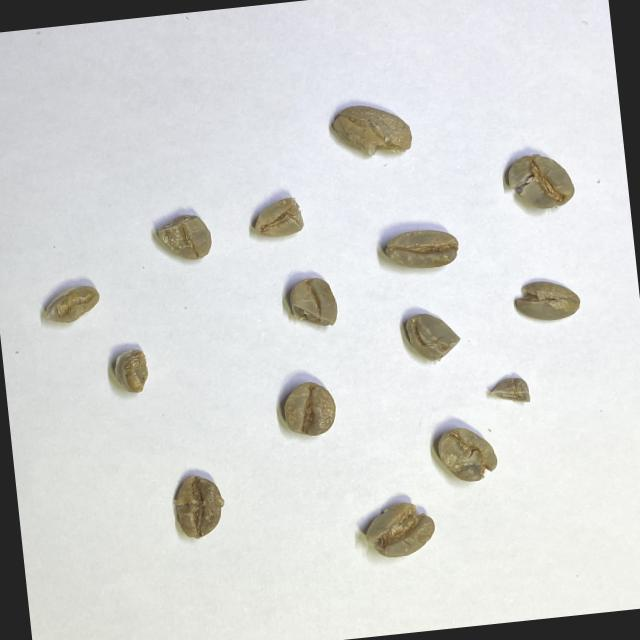bad: (328, 98, 416, 160), (361, 497, 440, 562), (503, 150, 578, 213), (168, 468, 231, 542), (434, 422, 501, 486), (511, 275, 583, 325), (402, 308, 464, 366), (153, 210, 216, 264), (284, 272, 340, 332), (41, 280, 103, 326), (250, 193, 306, 240), (109, 342, 152, 397), (486, 373, 532, 407)
good: (382, 225, 462, 273), (279, 378, 339, 439)
